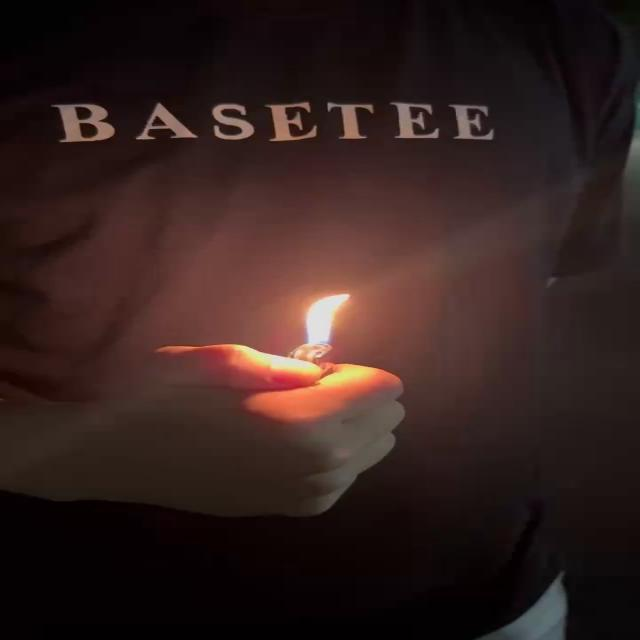Fire: (303, 291, 369, 348)
